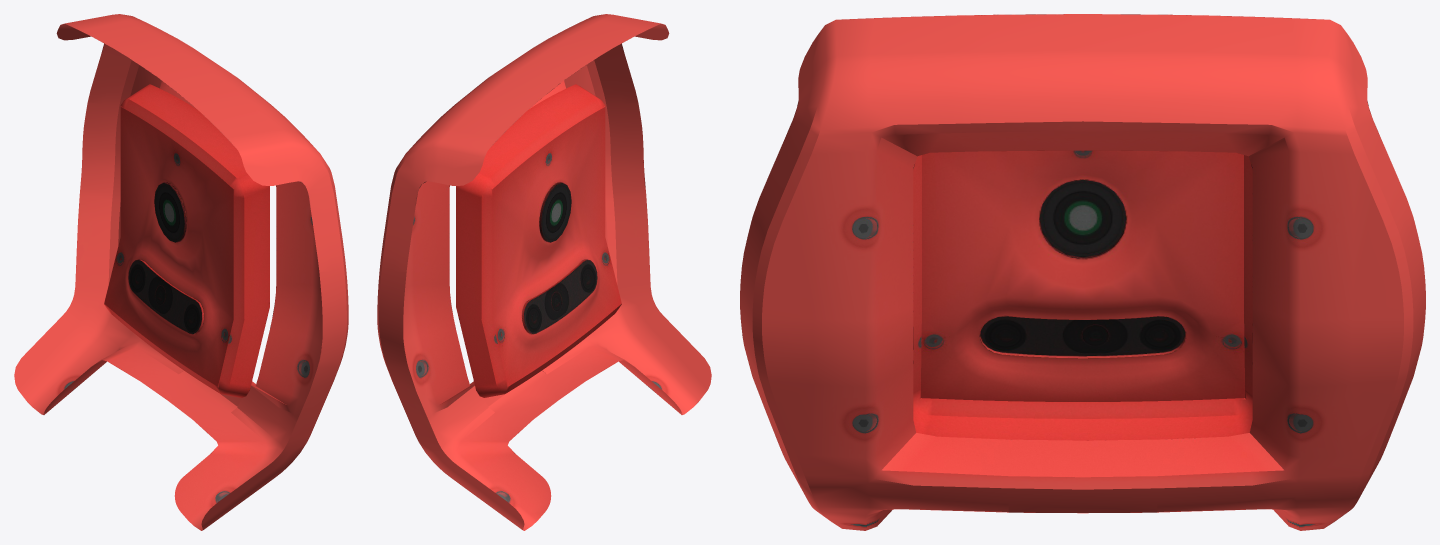
The model's file is face_shell.dae.
The picture shows the model from 3 angles, left to right: view 1: azimuth 30°, elevation 25°; view 2: azimuth 150°, elevation 25°; view 3: azimuth 270°, elevation 25°; orthographic projection. The views are drawn at different scales.
Parts seen in each view (by area): view 1: 105227.001; view 2: 105227.001; view 3: 105227.001.
Part boxes in pixels (x1,y1,x2,y2): 105227.001: (14, 14, 348, 530); 105227.001: (377, 14, 711, 530); 105227.001: (740, 14, 1425, 530).
Bounding box in the file's own units: 0.0722 × 0.2198 × 0.1928.
Materials: 1 (1 with a texture image).
